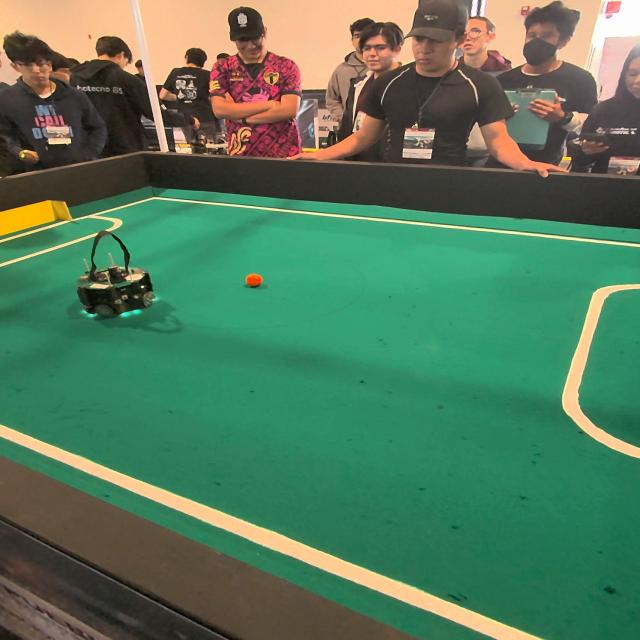Robot: (74, 229, 163, 331)
pelota: (239, 271, 270, 294)
